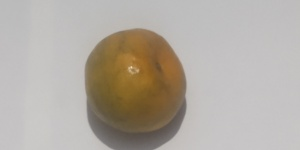BAD: (84, 28, 186, 135)
